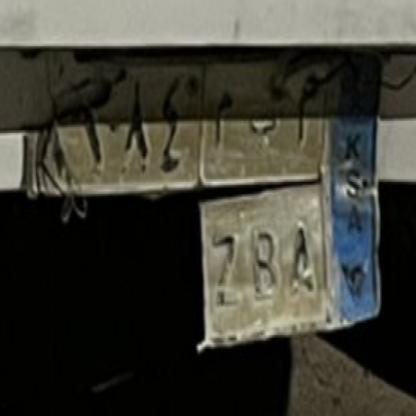english: (22, 177, 339, 349)
